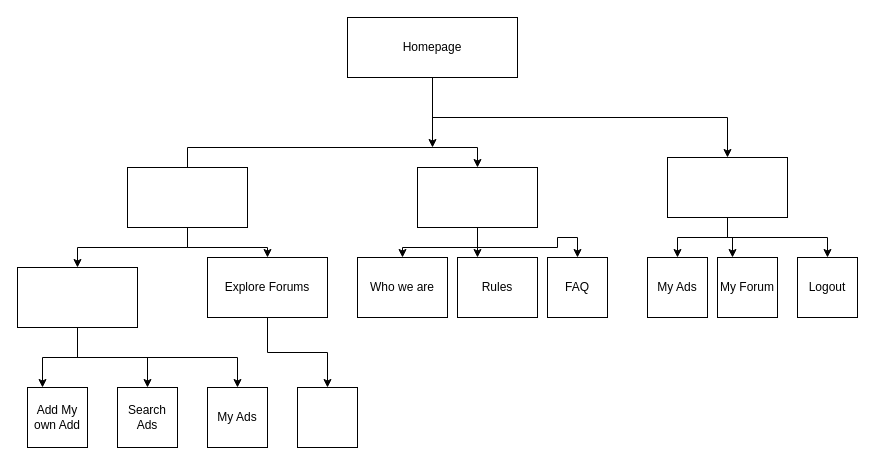
The diagram is 875 pixels wide and 465 high, and some of its shapes have lost their labels. Each missing label, with the centre of its shape:
"Create new channel" belongs at point 327,417.
"Explore Ads" belongs at point 77,297.
"Information" belongs at point 477,197.
"Login/Register" belongs at point 727,187.
"My Community" belongs at point 187,197.
